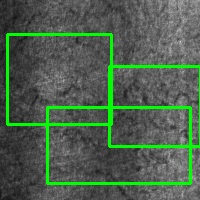crazing: (47, 107, 190, 183), (7, 34, 111, 124), (109, 66, 200, 146)
